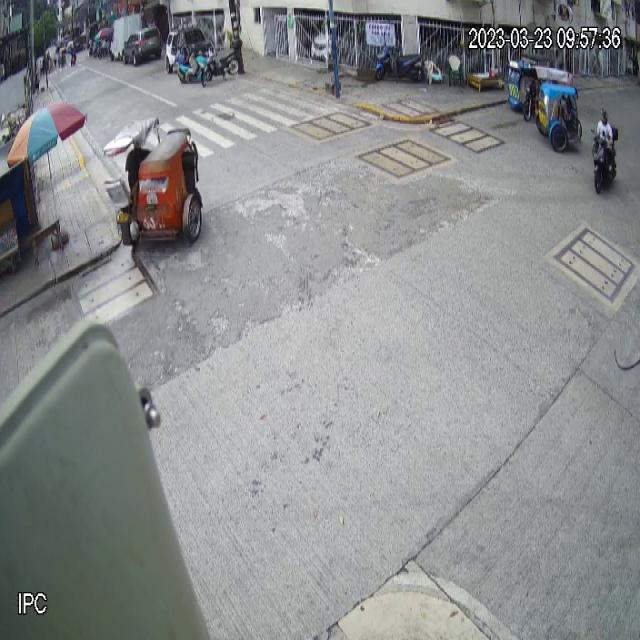Motorcycle: (590, 124, 620, 194)
Tricycle: (102, 114, 206, 249), (534, 81, 584, 152)
